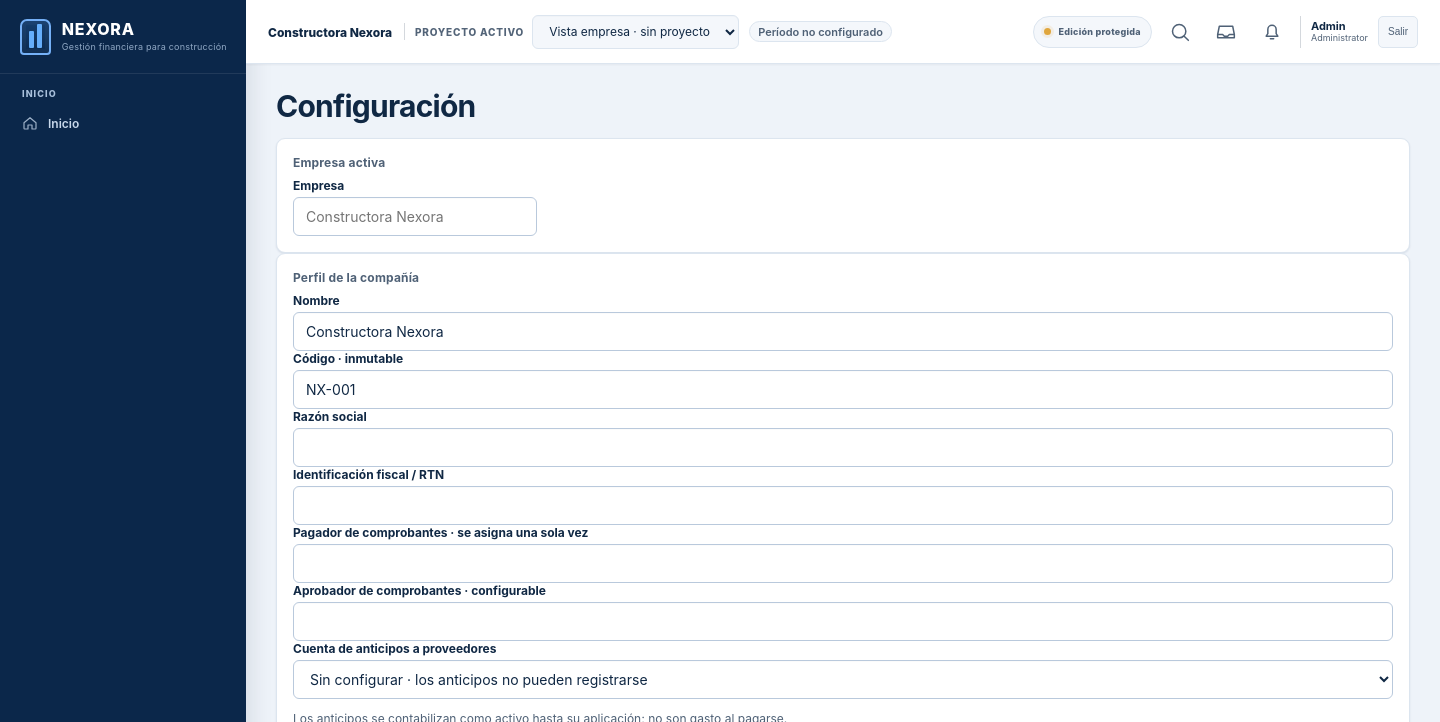
CompanySettingsPage › shows code/functional currency read-only and persists legal name + fiscal id through the real PATCH API
Expected: the field showing "NX-001" is shown, [293,370,1393,409]
Type "constructora nexora s.a." into the field labelled "Razón social" at [843, 448], box [293,428,1393,467]
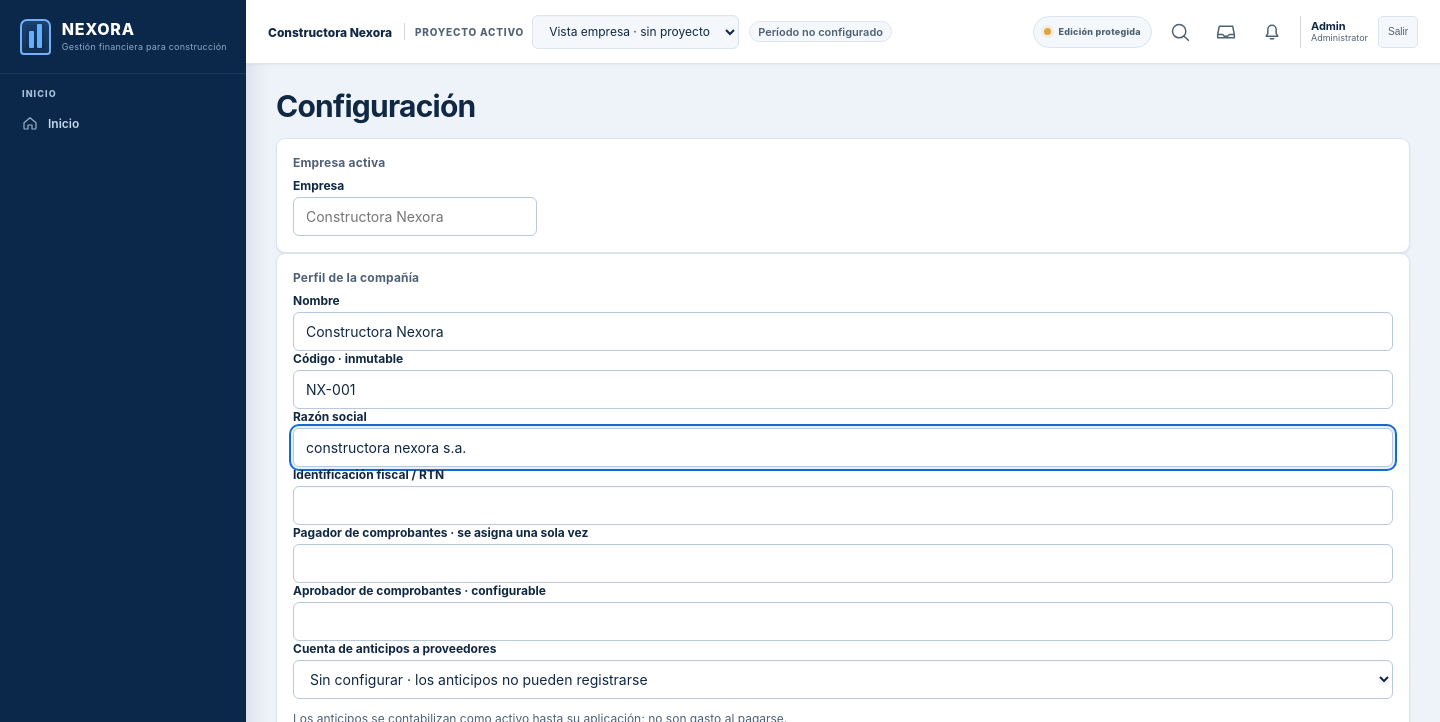
Type "0801-1990-12345" into the field labelled "Identificación fiscal / RTN" at [843, 506], box [293,486,1393,525]
(page scrolled)
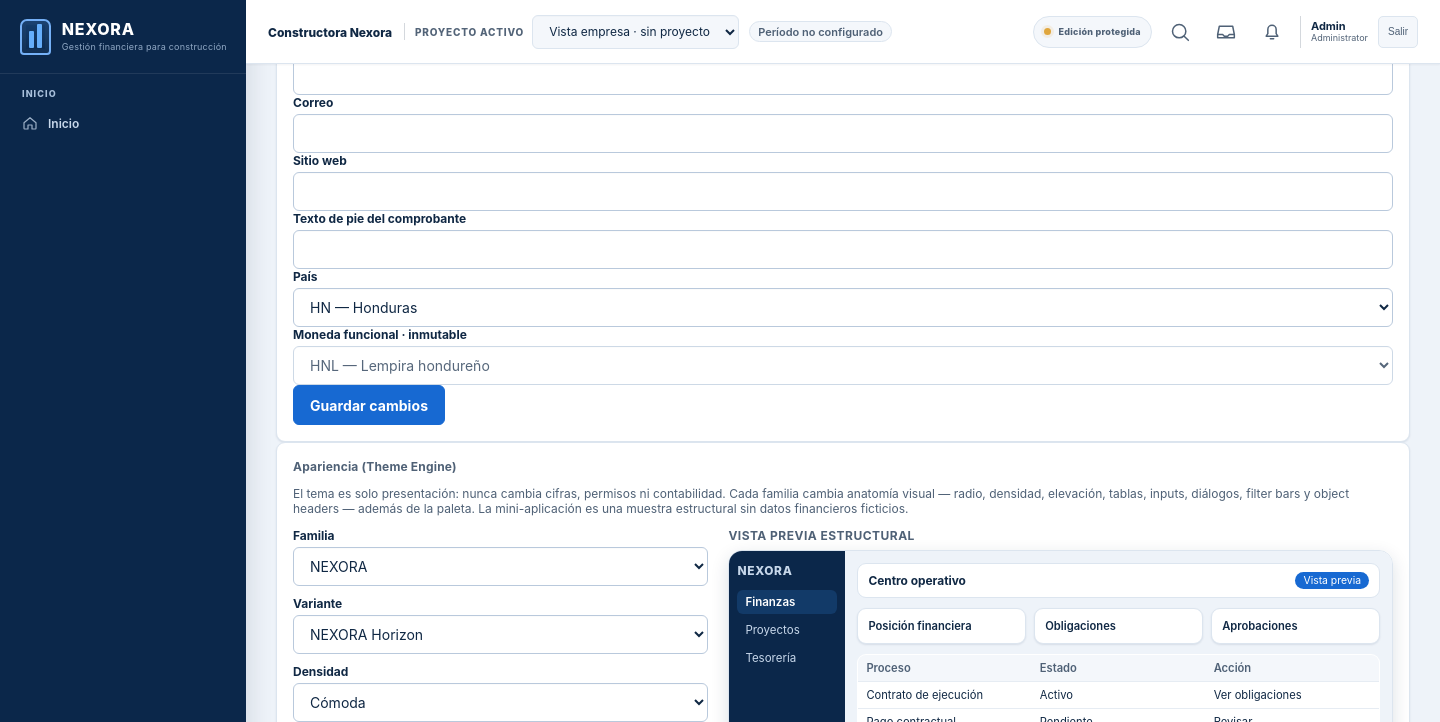
Click the button "Guardar cambios" at [369, 405], box [293,385,445,425]
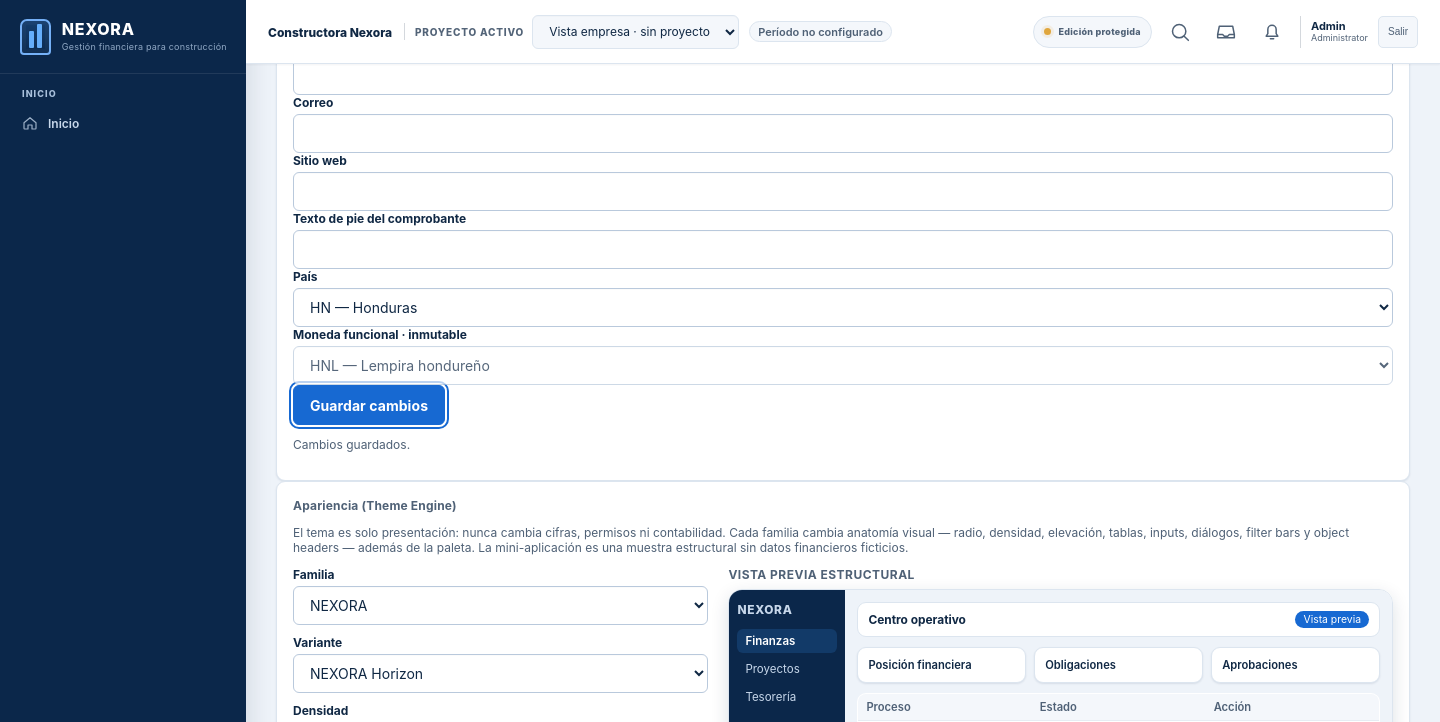
Expected: the dropdown labelled "Moneda funcional · inmutable" shows "HNL — Lempira hondureño", [293,346,1393,385]
Expected: the text "Cambios guardados." is shown, [293,437,410,452]
